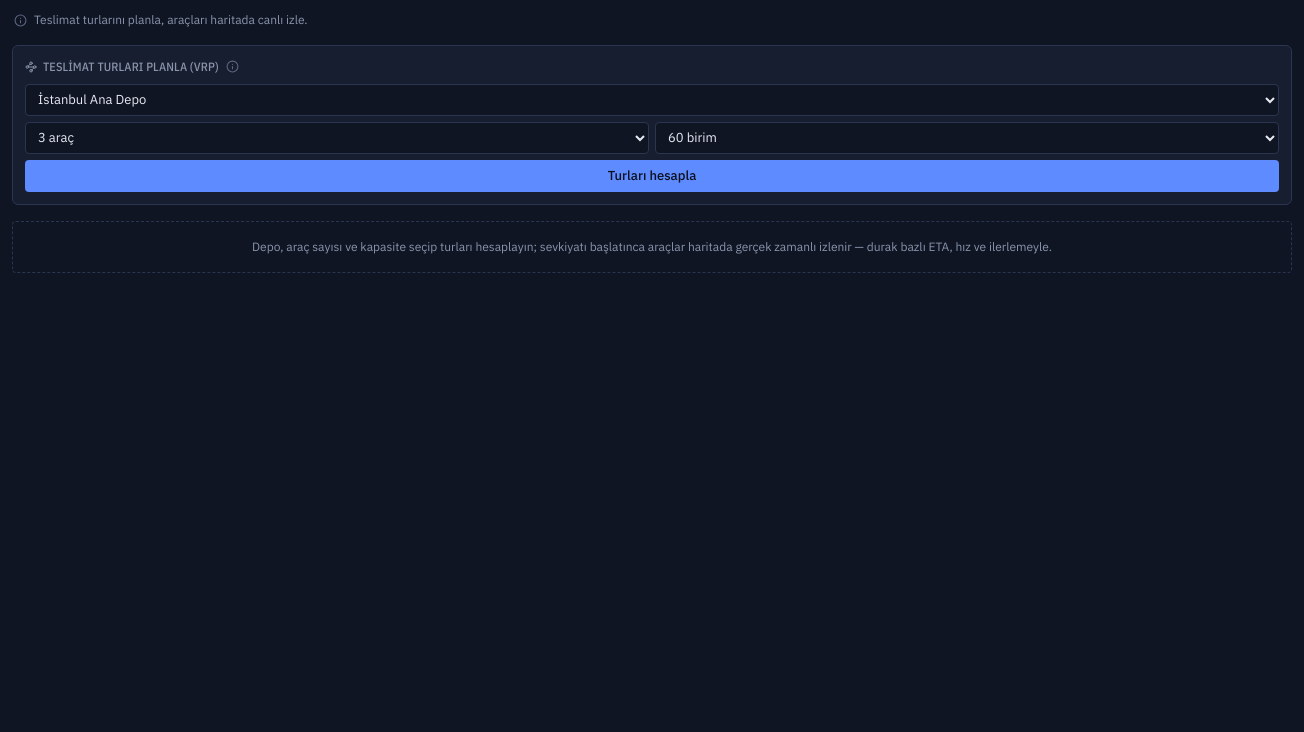
LogisticsPanel › tur hesapla → önizleme kartları → sevkiyatı başlat → canlı filo
Click the button "Turları hesapla": (652, 176) [25,160,1279,192]
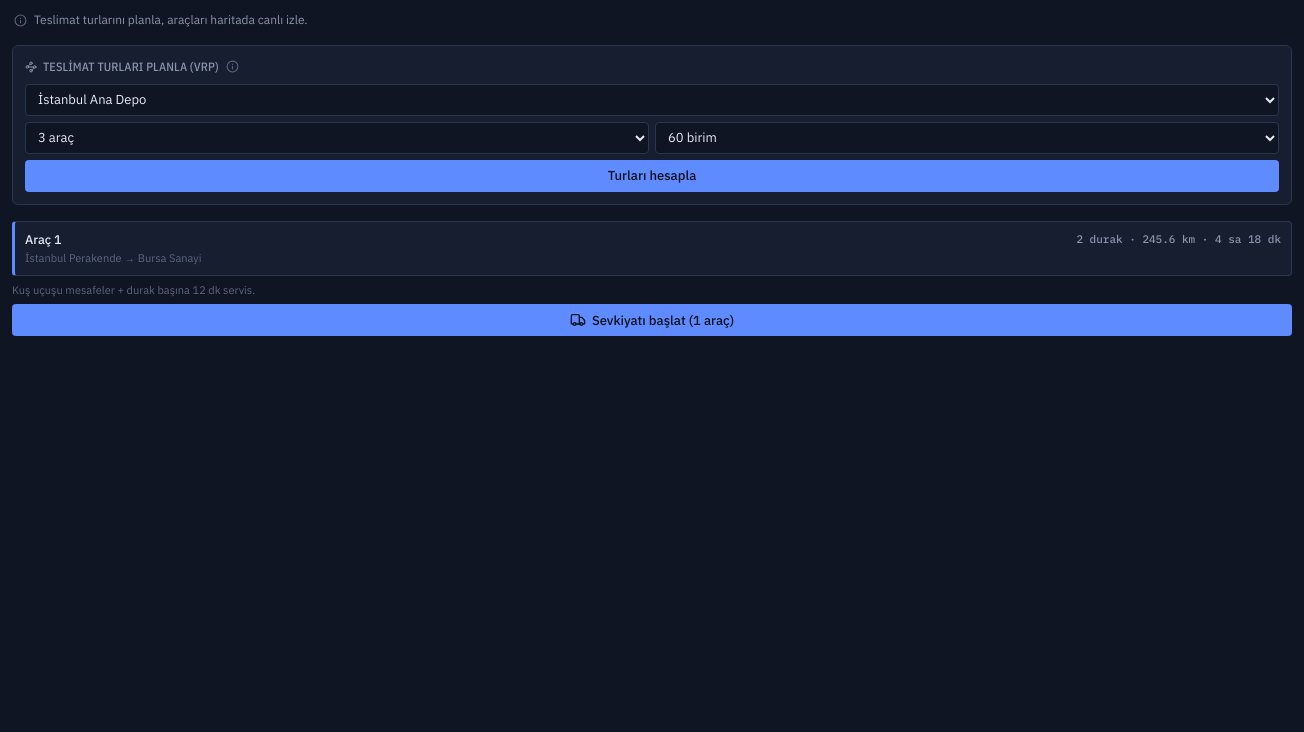
Expected: the element with test id "tour-preview" shows "Araç 1", [25,230,62,246]
Expected: the element with test id "tour-preview" shows "2 durak", [12,220,1292,336]
Expected: the element with test id "tour-preview" shows "245.6 km", [12,220,1292,336]
Click the button "Sevkiyatı başlat (1 araç)": (652, 320) [12,304,1292,336]
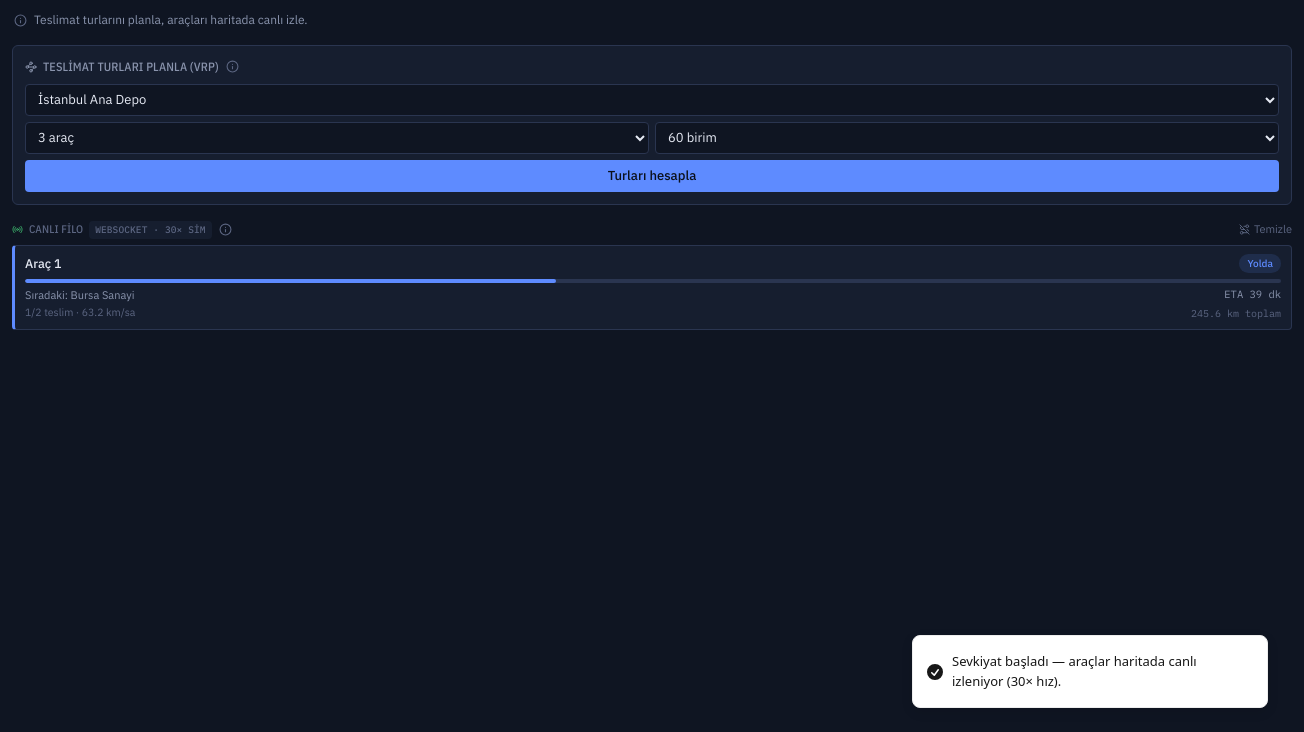
Expected: the element with test id "live-fleet" shows "Yolda", [1248,257,1273,270]
Expected: the element with test id "live-fleet" shows "Sıradaki: Bursa Sanayi", [25,288,134,302]
Expected: the element with test id "live-fleet" shows "ETA 39 dk", [1224,287,1281,301]
